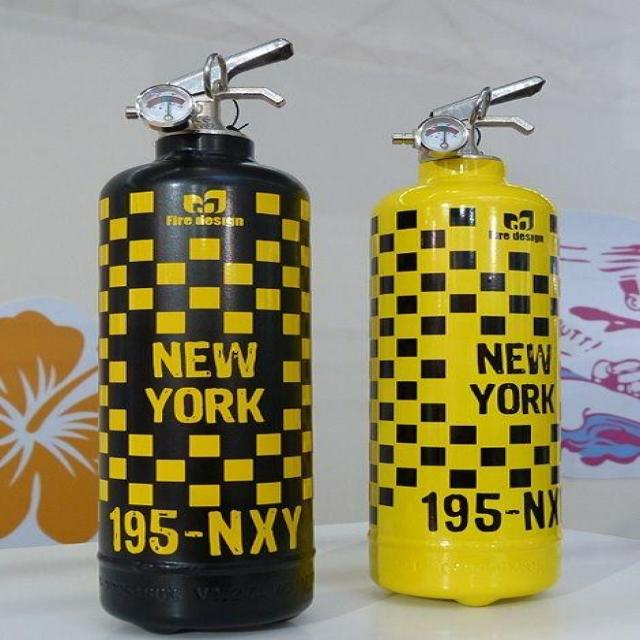fire_extinguisher: (92, 31, 322, 634), (360, 72, 569, 616)
